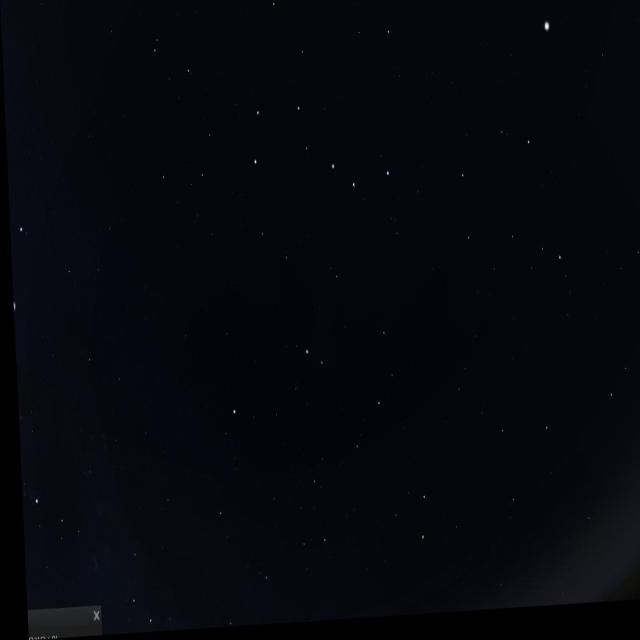ursa_major: (236, 82, 404, 225)
